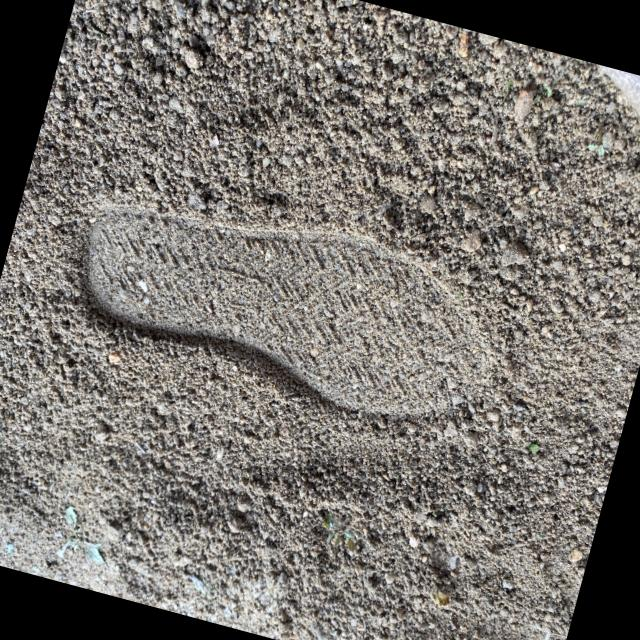human_foot_print: (55, 188, 568, 466)
